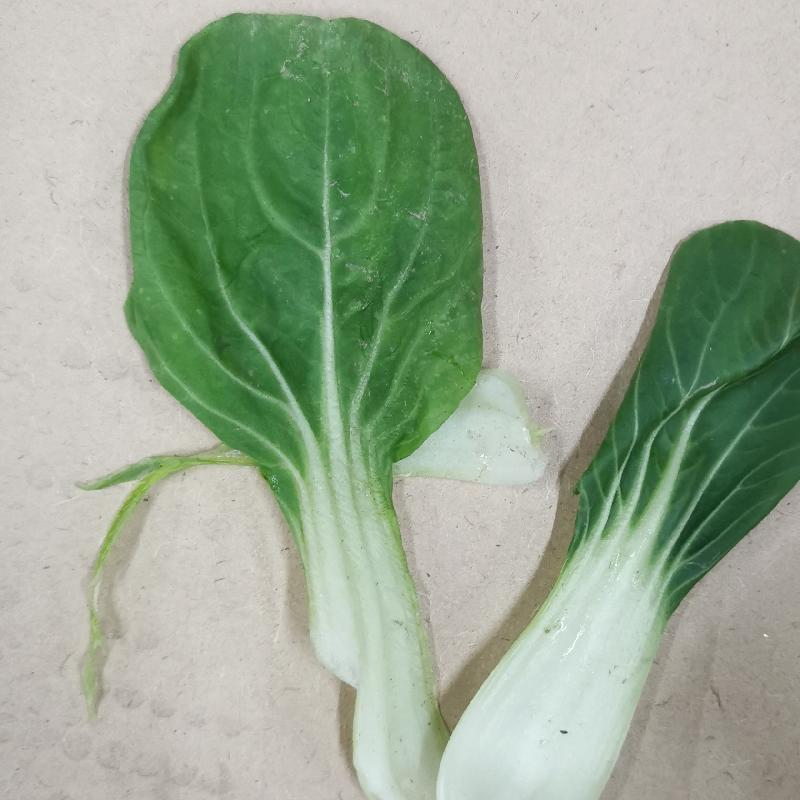green vegatable: (111, 2, 480, 794), (426, 232, 800, 794)
